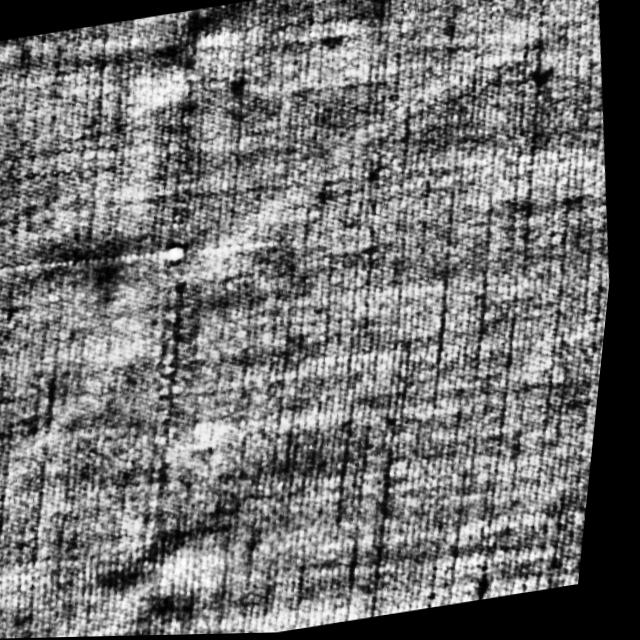Hole: (138, 230, 216, 285)
